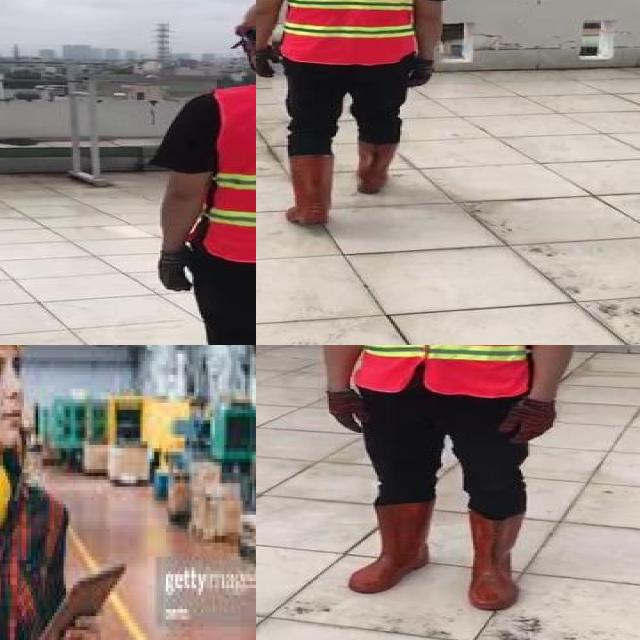Ear-protection: (0, 455, 10, 528)
boots: (349, 502, 432, 593), (464, 508, 523, 611), (286, 155, 336, 227), (354, 140, 400, 193)
hand_glove: (496, 399, 557, 445), (326, 390, 372, 436), (154, 252, 196, 292), (256, 46, 281, 79), (407, 60, 432, 88)
person: (319, 345, 593, 614), (256, 0, 450, 237), (127, 0, 256, 345), (0, 345, 108, 640)
vest: (348, 345, 531, 398), (203, 84, 256, 263), (281, 0, 425, 64)
